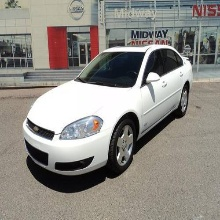no damage: (22, 44, 193, 179)
